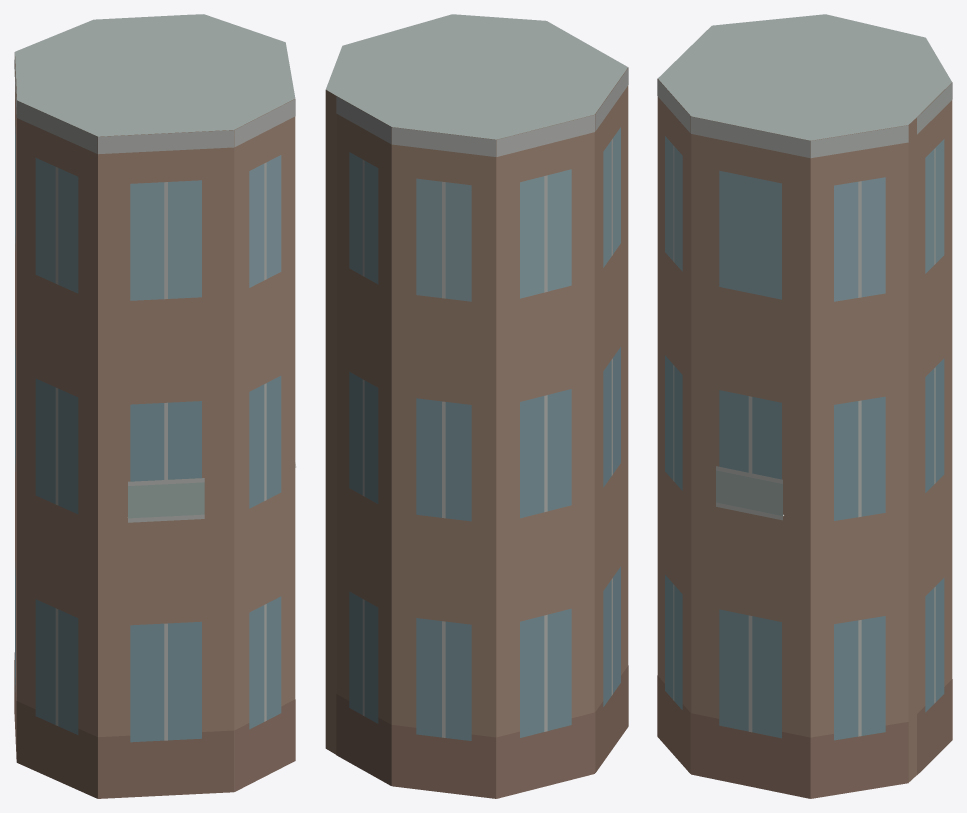
The model's file is survey-upis-32470096.glb.
3 views of the same model, side by side, from view 1: azimuth 30°, elevation 25°; view 2: azimuth 150°, elevation 25°; view 3: azimuth 270°, elevation 25° (orthographic).
Parts seen in each view (by area): view 1: survey-upis-32470096.tmp; view 2: survey-upis-32470096.tmp; view 3: survey-upis-32470096.tmp.
Part boxes in pixels (box(x1,y1,x2,y2)): survey-upis-32470096.tmp: box(14, 14, 296, 798); survey-upis-32470096.tmp: box(325, 14, 628, 798); survey-upis-32470096.tmp: box(657, 14, 952, 798).
Bounding box in the file's own units: 3.79 × 9.15 × 3.72.
